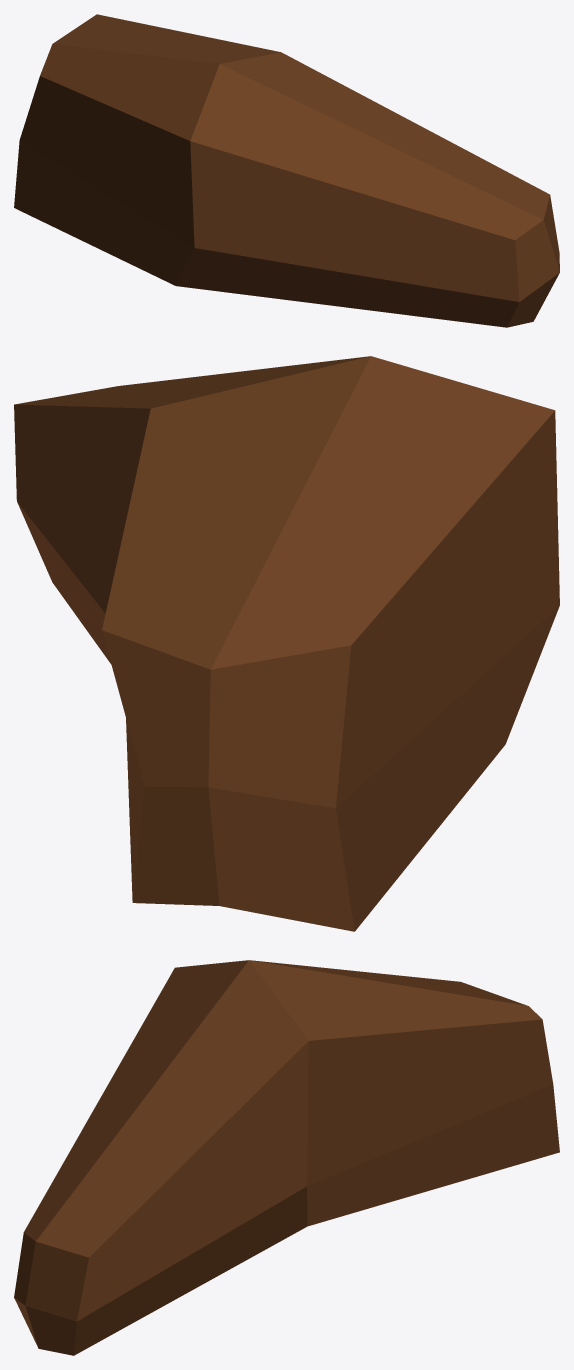
File: Asteroid2.fbx
The picture shows the model from 3 angles, top to bottom: view 1: azimuth 30°, elevation 25°; view 2: azimuth 150°, elevation 25°; view 3: azimuth 270°, elevation 25°; orthographic projection. The views are drawn at different scales.
Visible parts, largest first — view 1: Meteor1.001; view 2: Meteor1.001; view 3: Meteor1.001.
Boxes of the visible parts, x1,y1,x2,y2 form: Meteor1.001: [14, 14, 559, 327]; Meteor1.001: [14, 356, 559, 931]; Meteor1.001: [14, 960, 559, 1355].
Bounding box in the file's own units: 1266 × 811 × 1489.
